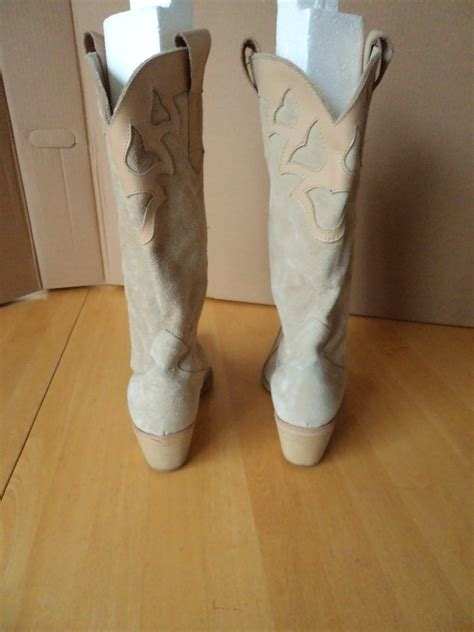gamuza: (100, 122, 363, 433)
